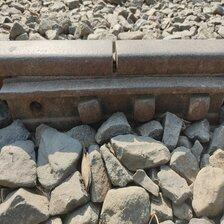railway-gap: (77, 21, 152, 88)
